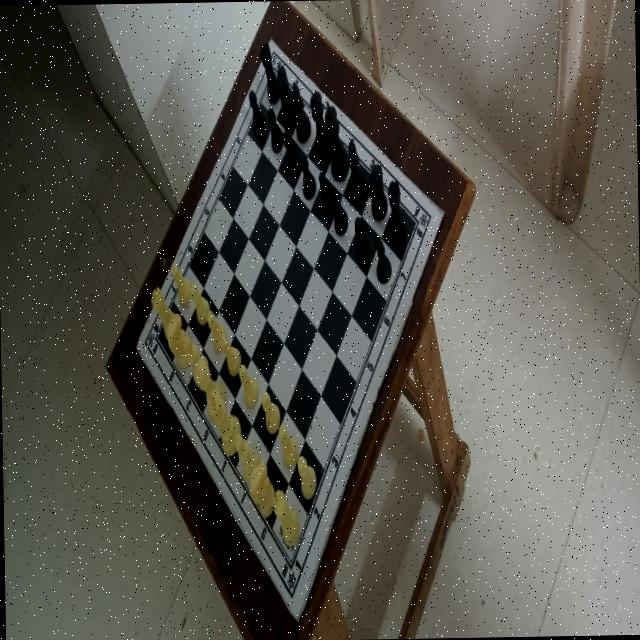corners: (264, 24, 278, 59), (292, 602, 304, 630), (436, 200, 447, 225), (132, 338, 143, 360)
